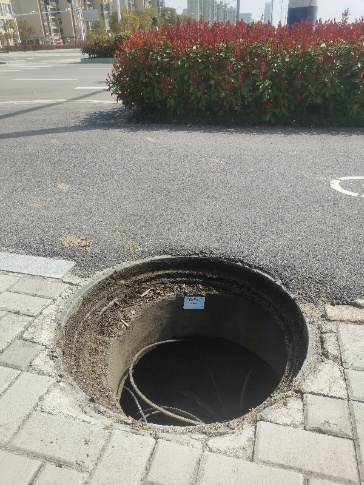lose: (51, 253, 317, 434)
